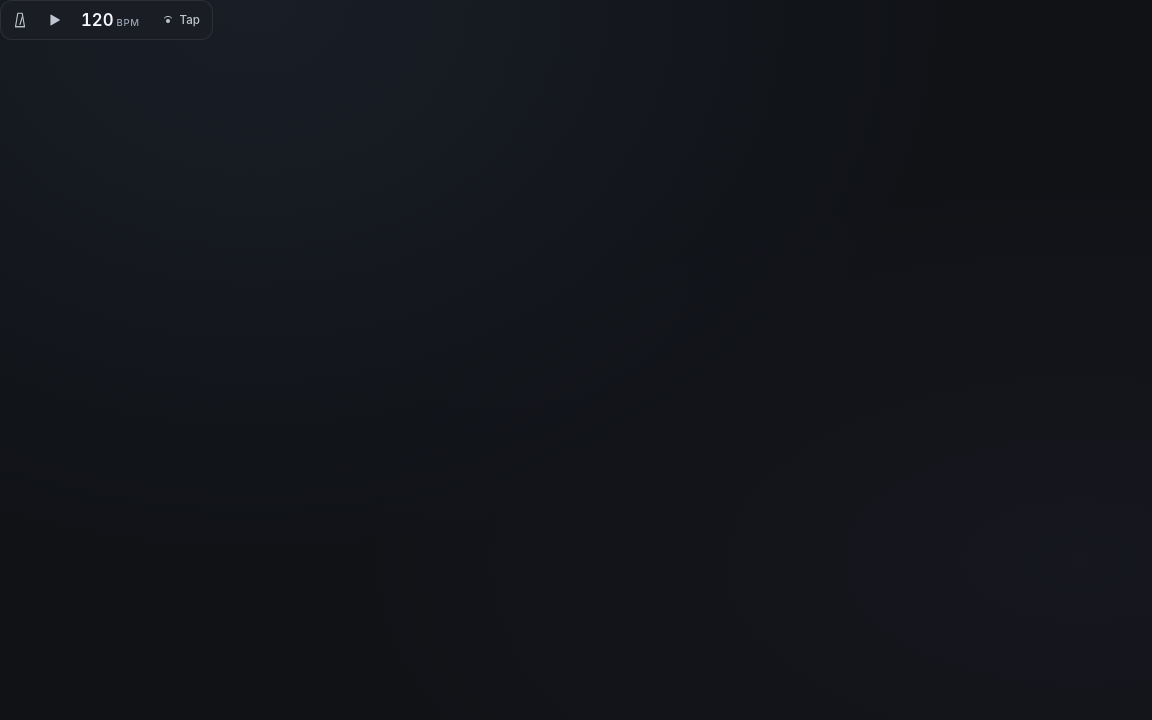
Test case: MetronomeQuickBar › opens the full metronome popover from the instrument icon
Click the button named "Open metronome": point(20, 20) [5, 5, 35, 35]
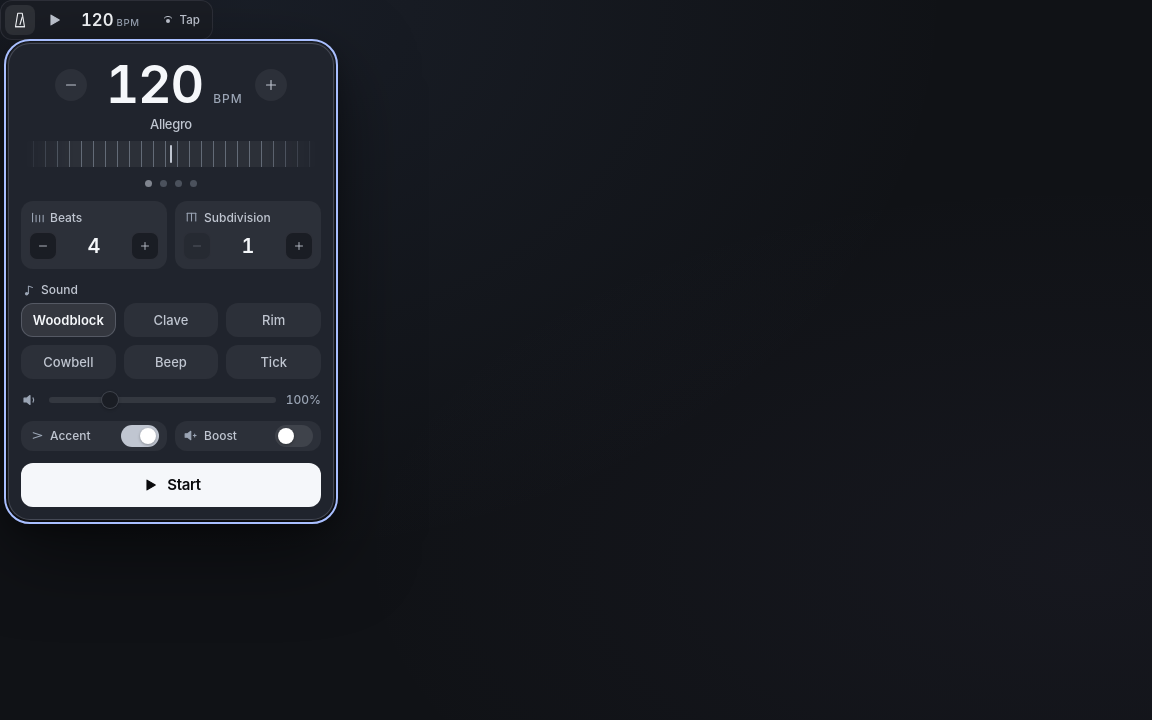
Now the dialog named "Metronome" is shown, box [8, 43, 334, 520]
Now the button named "Open metronome" is expanded, box [5, 5, 35, 35]
